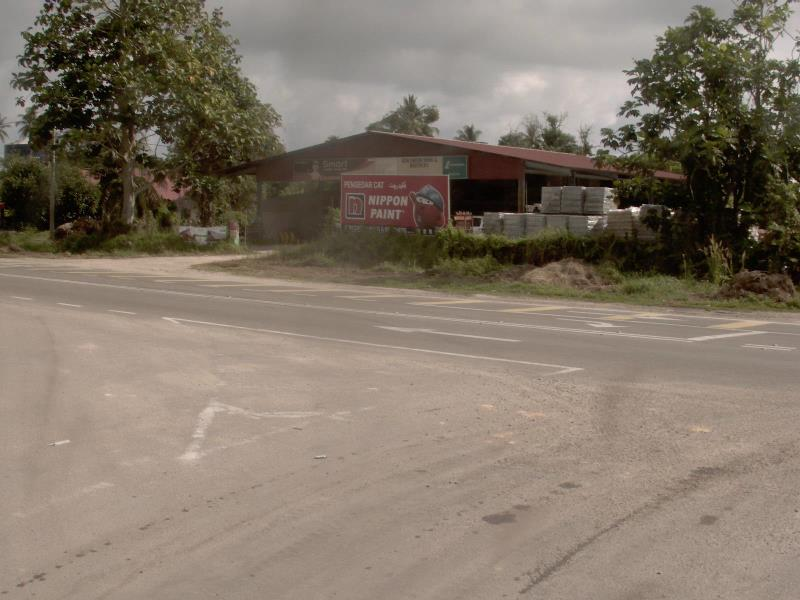ads_sign: (331, 160, 459, 240)
